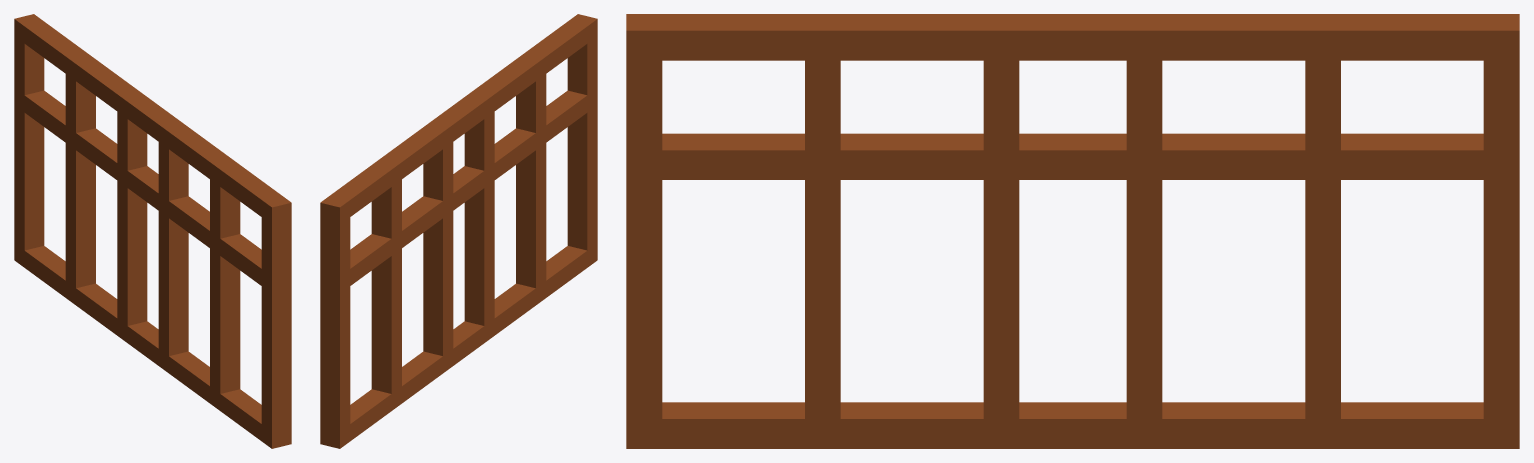
Rendered from LargeWindow.fbx.
3 renders of one model, left to right at view 1: azimuth 30°, elevation 25°; view 2: azimuth 150°, elevation 25°; view 3: azimuth 270°, elevation 25°, orthographic. The views are drawn at different scales.
Parts seen in each view (by area): view 1: Biggest Window; view 2: Biggest Window; view 3: Biggest Window.
Boxes of the visible parts, box(x1,y1,x2,y2) form: Biggest Window: box(14, 14, 291, 448); Biggest Window: box(320, 14, 597, 448); Biggest Window: box(626, 14, 1519, 448).
Bounding box in the file's own units: 30 × 351 × 679.
